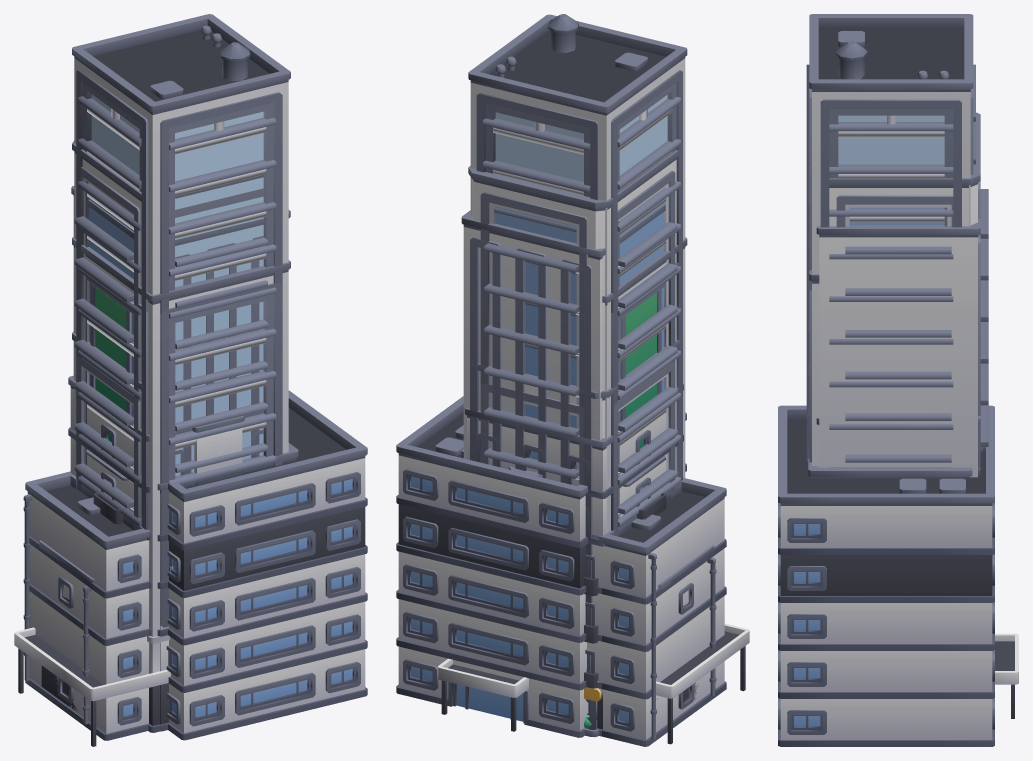
File: downtown.glb
3 renders of one model, left to right at view 1: azimuth 30°, elevation 25°; view 2: azimuth 150°, elevation 25°; view 3: azimuth 270°, elevation 25°, orthographic.
Parts seen in each view (by area): view 1: building-n, building-skyscraper-d, building-j, building-skyscraper-c, building-skyscraper-b, building-skyscraper-e, building-skyscraper-a, building-k, building-m, building-l; view 2: building-n, building-skyscraper-d, building-skyscraper-b, building-j, building-skyscraper-e, building-m, building-skyscraper-a, building-skyscraper-c, building-k, building-i; view 3: building-n, building-skyscraper-d, building-skyscraper-e, building-skyscraper-b, building-skyscraper-c, building-l, building-skyscraper-a.
Part boxes in pixels (x1,y1,x2,y2): building-n: [14, 390, 367, 746]; building-skyscraper-d: [72, 14, 290, 731]; building-j: [23, 471, 149, 740]; building-skyscraper-c: [72, 237, 290, 732]; building-skyscraper-b: [72, 140, 267, 518]; building-skyscraper-e: [71, 186, 290, 480]; building-skyscraper-a: [72, 331, 267, 530]; building-k: [39, 540, 95, 728]; building-m: [68, 375, 263, 629]; building-l: [93, 443, 298, 731]; building-n: [396, 396, 749, 744]; building-skyscraper-d: [468, 14, 687, 530]; building-skyscraper-b: [468, 150, 678, 730]; building-j: [583, 478, 726, 746]; building-skyscraper-e: [461, 204, 665, 729]; building-m: [464, 383, 683, 736]; building-skyscraper-a: [477, 339, 680, 729]; building-skyscraper-c: [525, 237, 687, 532]; building-k: [657, 545, 716, 735]; building-i: [584, 477, 684, 729]; building-n: [778, 405, 1018, 746]; building-skyscraper-d: [806, 14, 975, 467]; building-skyscraper-e: [816, 218, 980, 477]; building-skyscraper-b: [808, 112, 988, 462]; building-skyscraper-c: [806, 270, 953, 468]; building-l: [808, 447, 985, 479]; building-skyscraper-a: [808, 368, 988, 457].
Bounding box in the file's own units: 2.32 × 5.47 × 1.82.
1 material, 1 textured.
